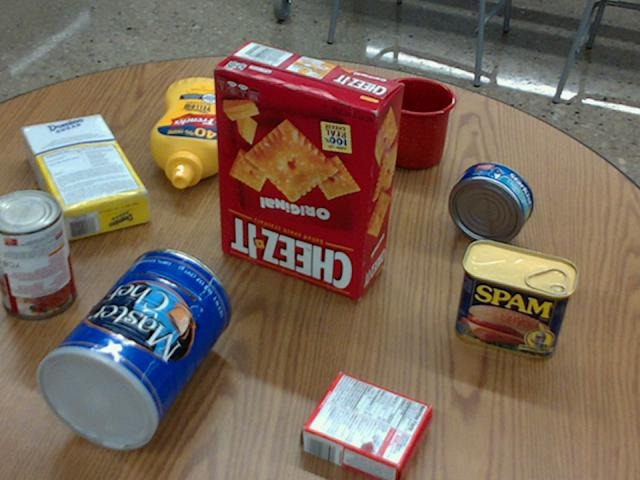cracker_box: (213, 41, 403, 298)
gelatin_box: (301, 371, 432, 479)
large_marker: (294, 99, 332, 156)
master_chef_can: (37, 247, 231, 450)
mug: (374, 77, 455, 169)
mustard_bottle: (150, 78, 244, 187)
potted_meat_can: (454, 240, 578, 358)
sugar_box: (20, 110, 149, 241)
tomato_soup_can: (0, 188, 75, 318)
tuna_fish_can: (447, 161, 532, 244)
